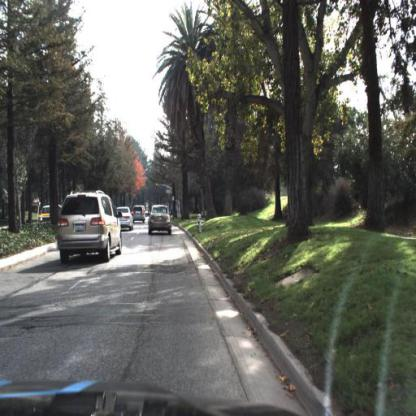car: (53, 186, 127, 269), (145, 201, 176, 242), (36, 200, 62, 223), (116, 206, 133, 229), (131, 204, 146, 223), (133, 204, 145, 223)
